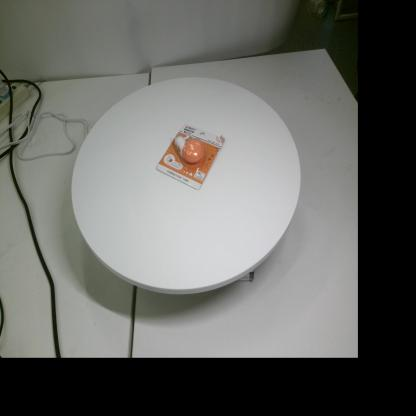Stationery: (156, 124, 225, 190)
